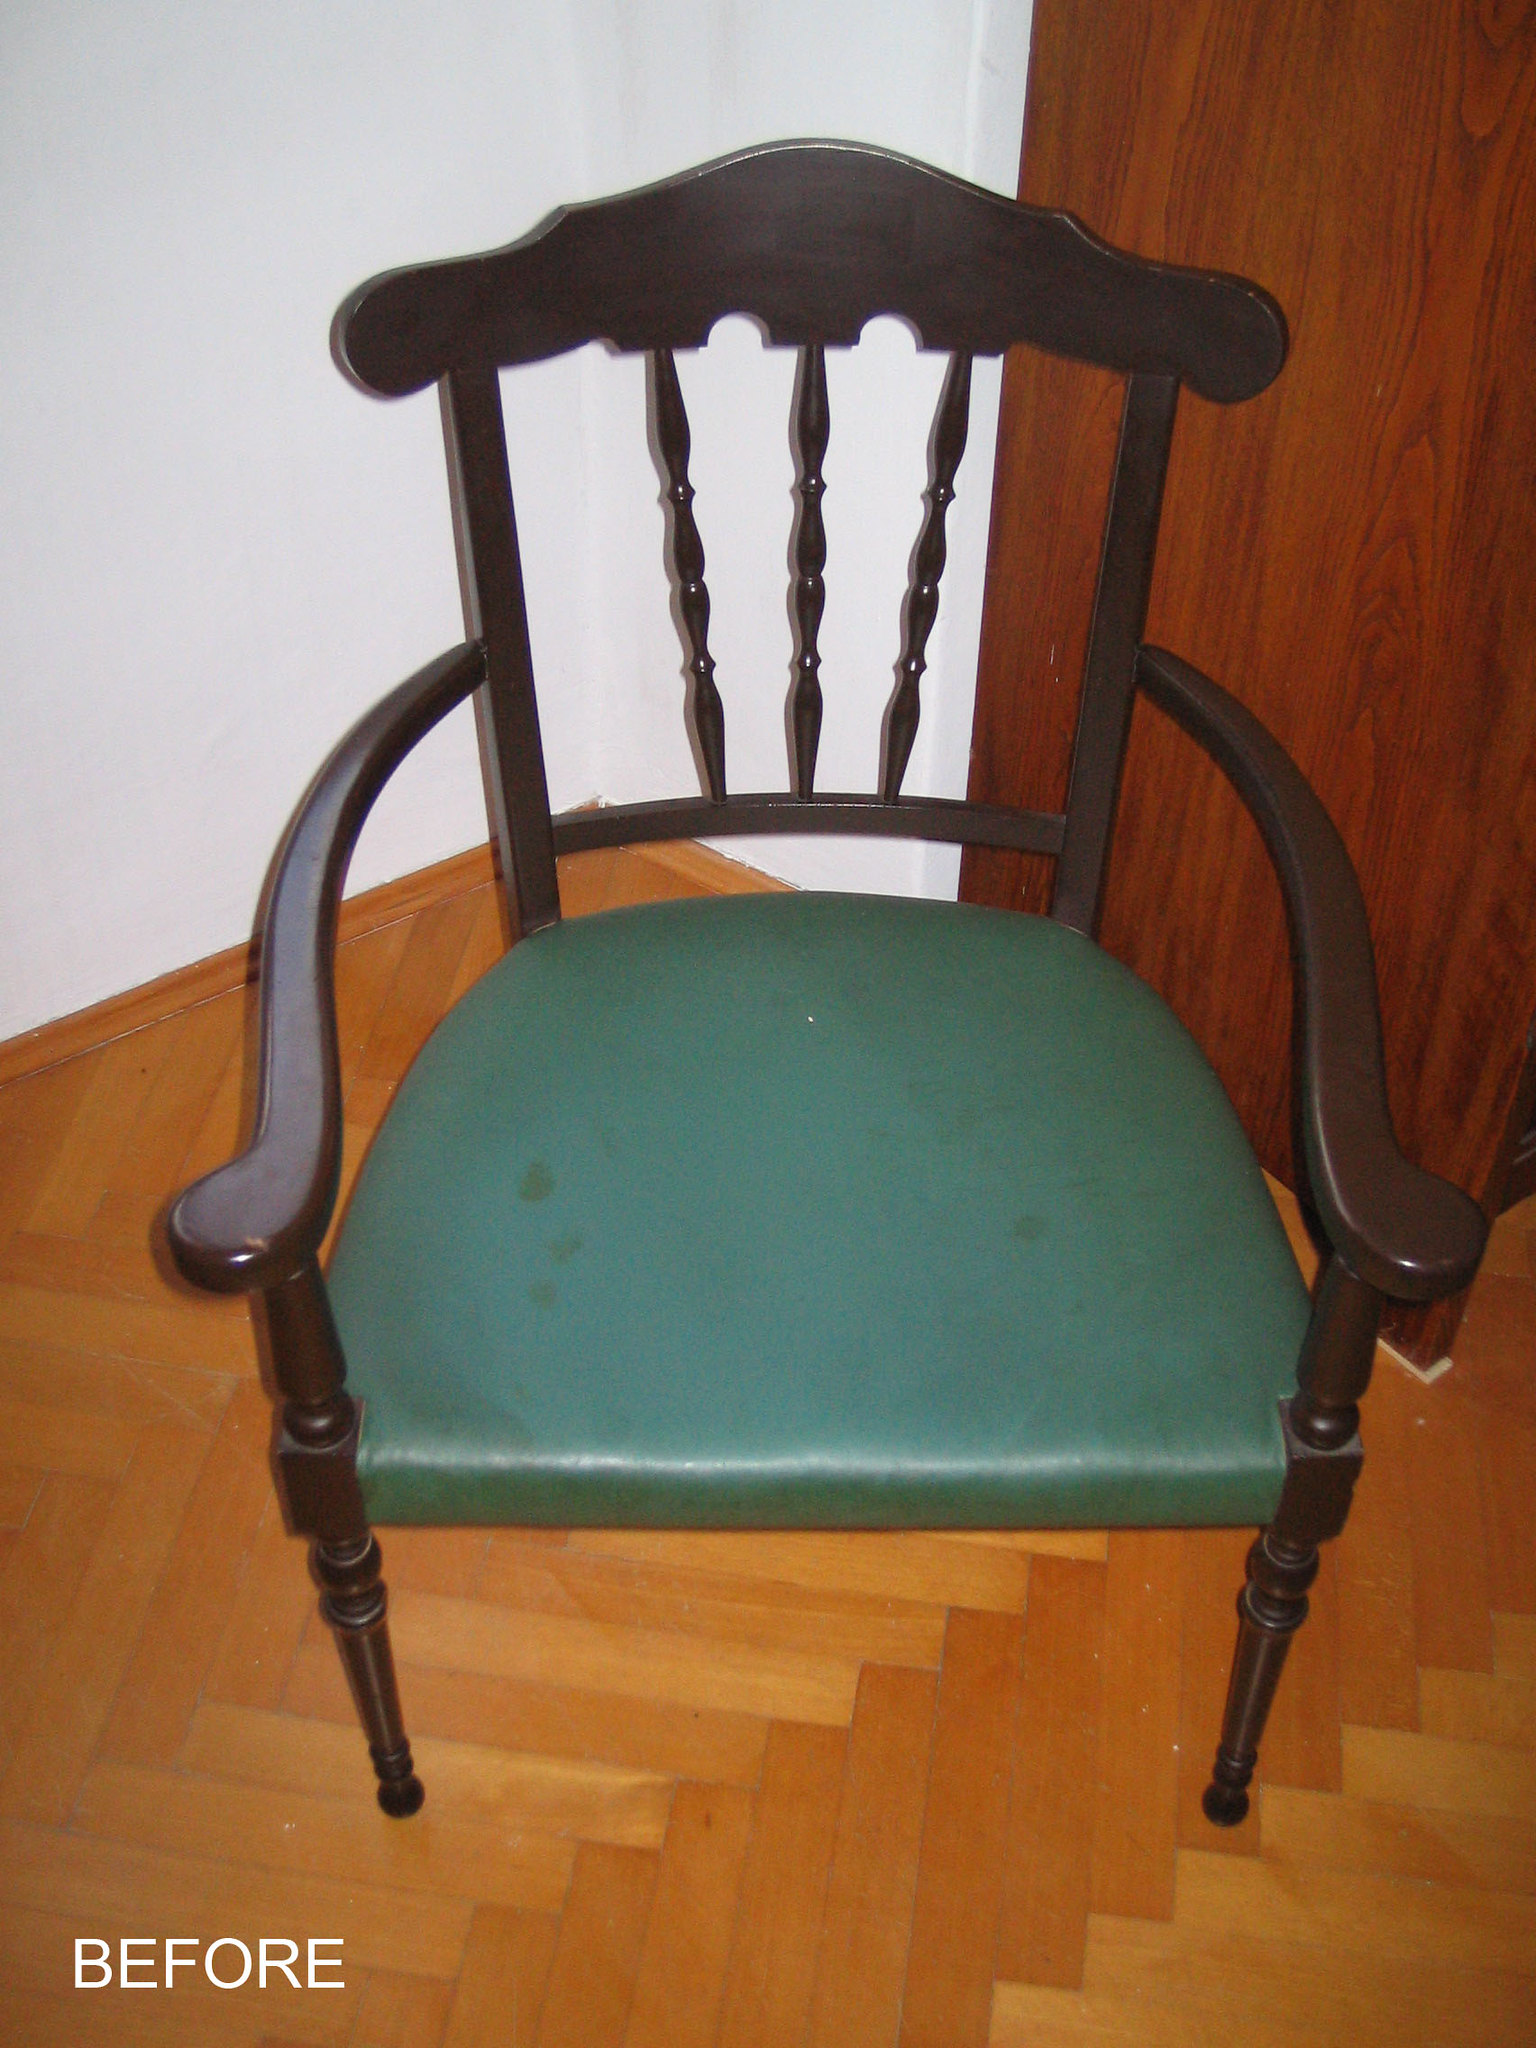chair: (190, 94, 1418, 1837)
